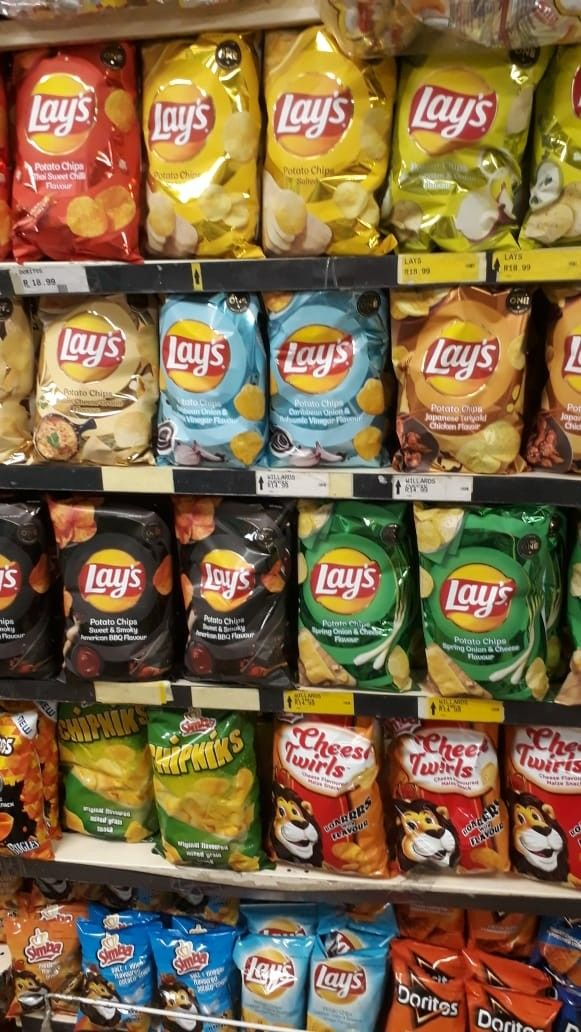Cheest Twirls: (260, 713, 381, 805)
Lays: (253, 321, 382, 406), (290, 533, 403, 618)
